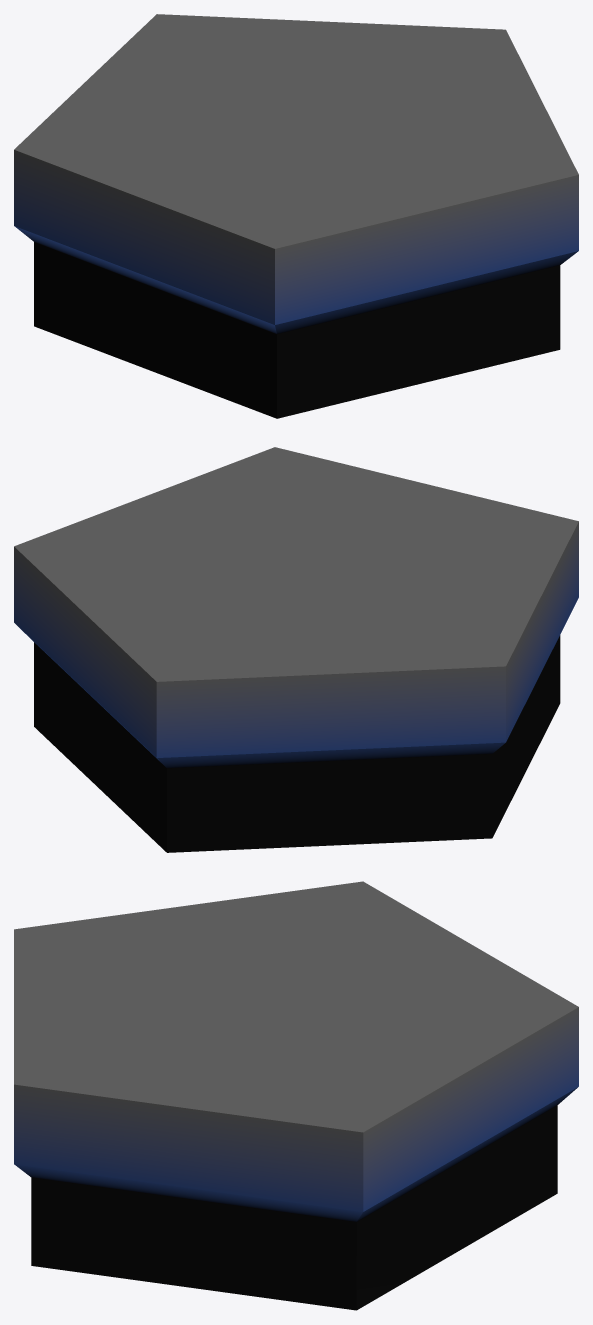
The model's file is pentadesk.fbx.
3 renders of one model, top to bottom at view 1: azimuth 30°, elevation 25°; view 2: azimuth 150°, elevation 25°; view 3: azimuth 270°, elevation 25°, orthographic. The views are drawn at different scales.
Visible parts, largest first — view 1: Cylinder; view 2: Cylinder; view 3: Cylinder.
Part boxes in pixels (<box>): Cylinder: <box>14,14,578,418</box>; Cylinder: <box>14,447,578,852</box>; Cylinder: <box>14,881,578,1310</box>.
Size of the model in its own units: 204 by 70.72 by 194.
